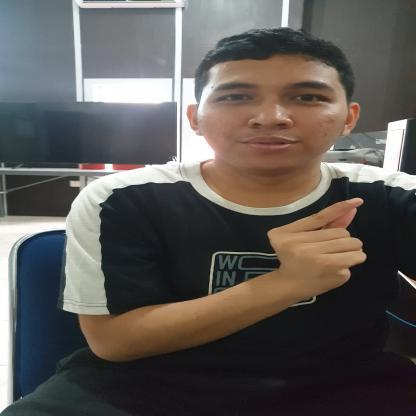R: (250, 196, 392, 296)
